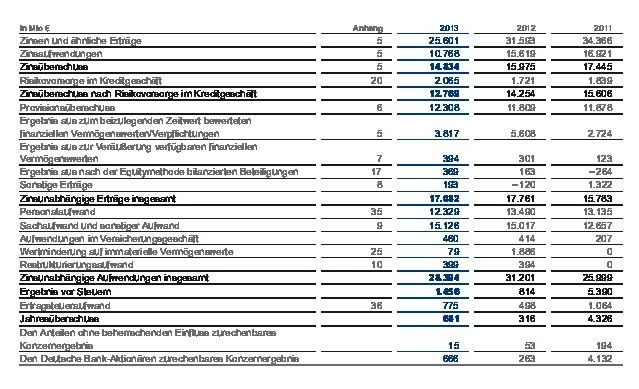table: (0, 0, 639, 389)
